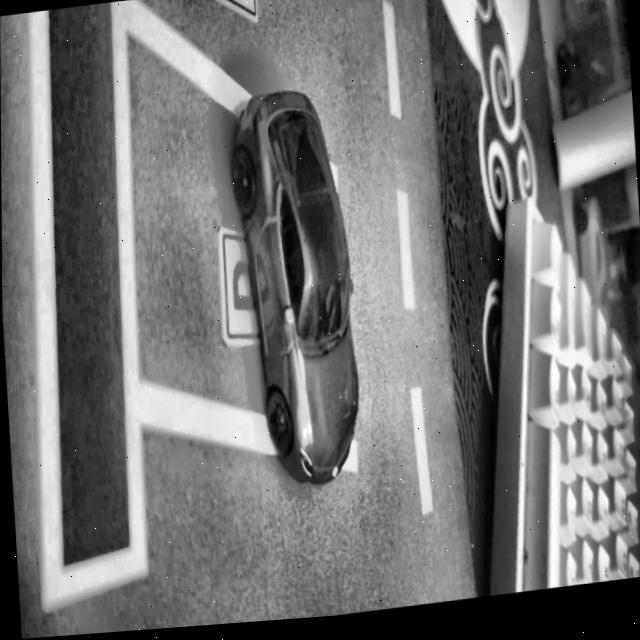car: (225, 85, 364, 498)
